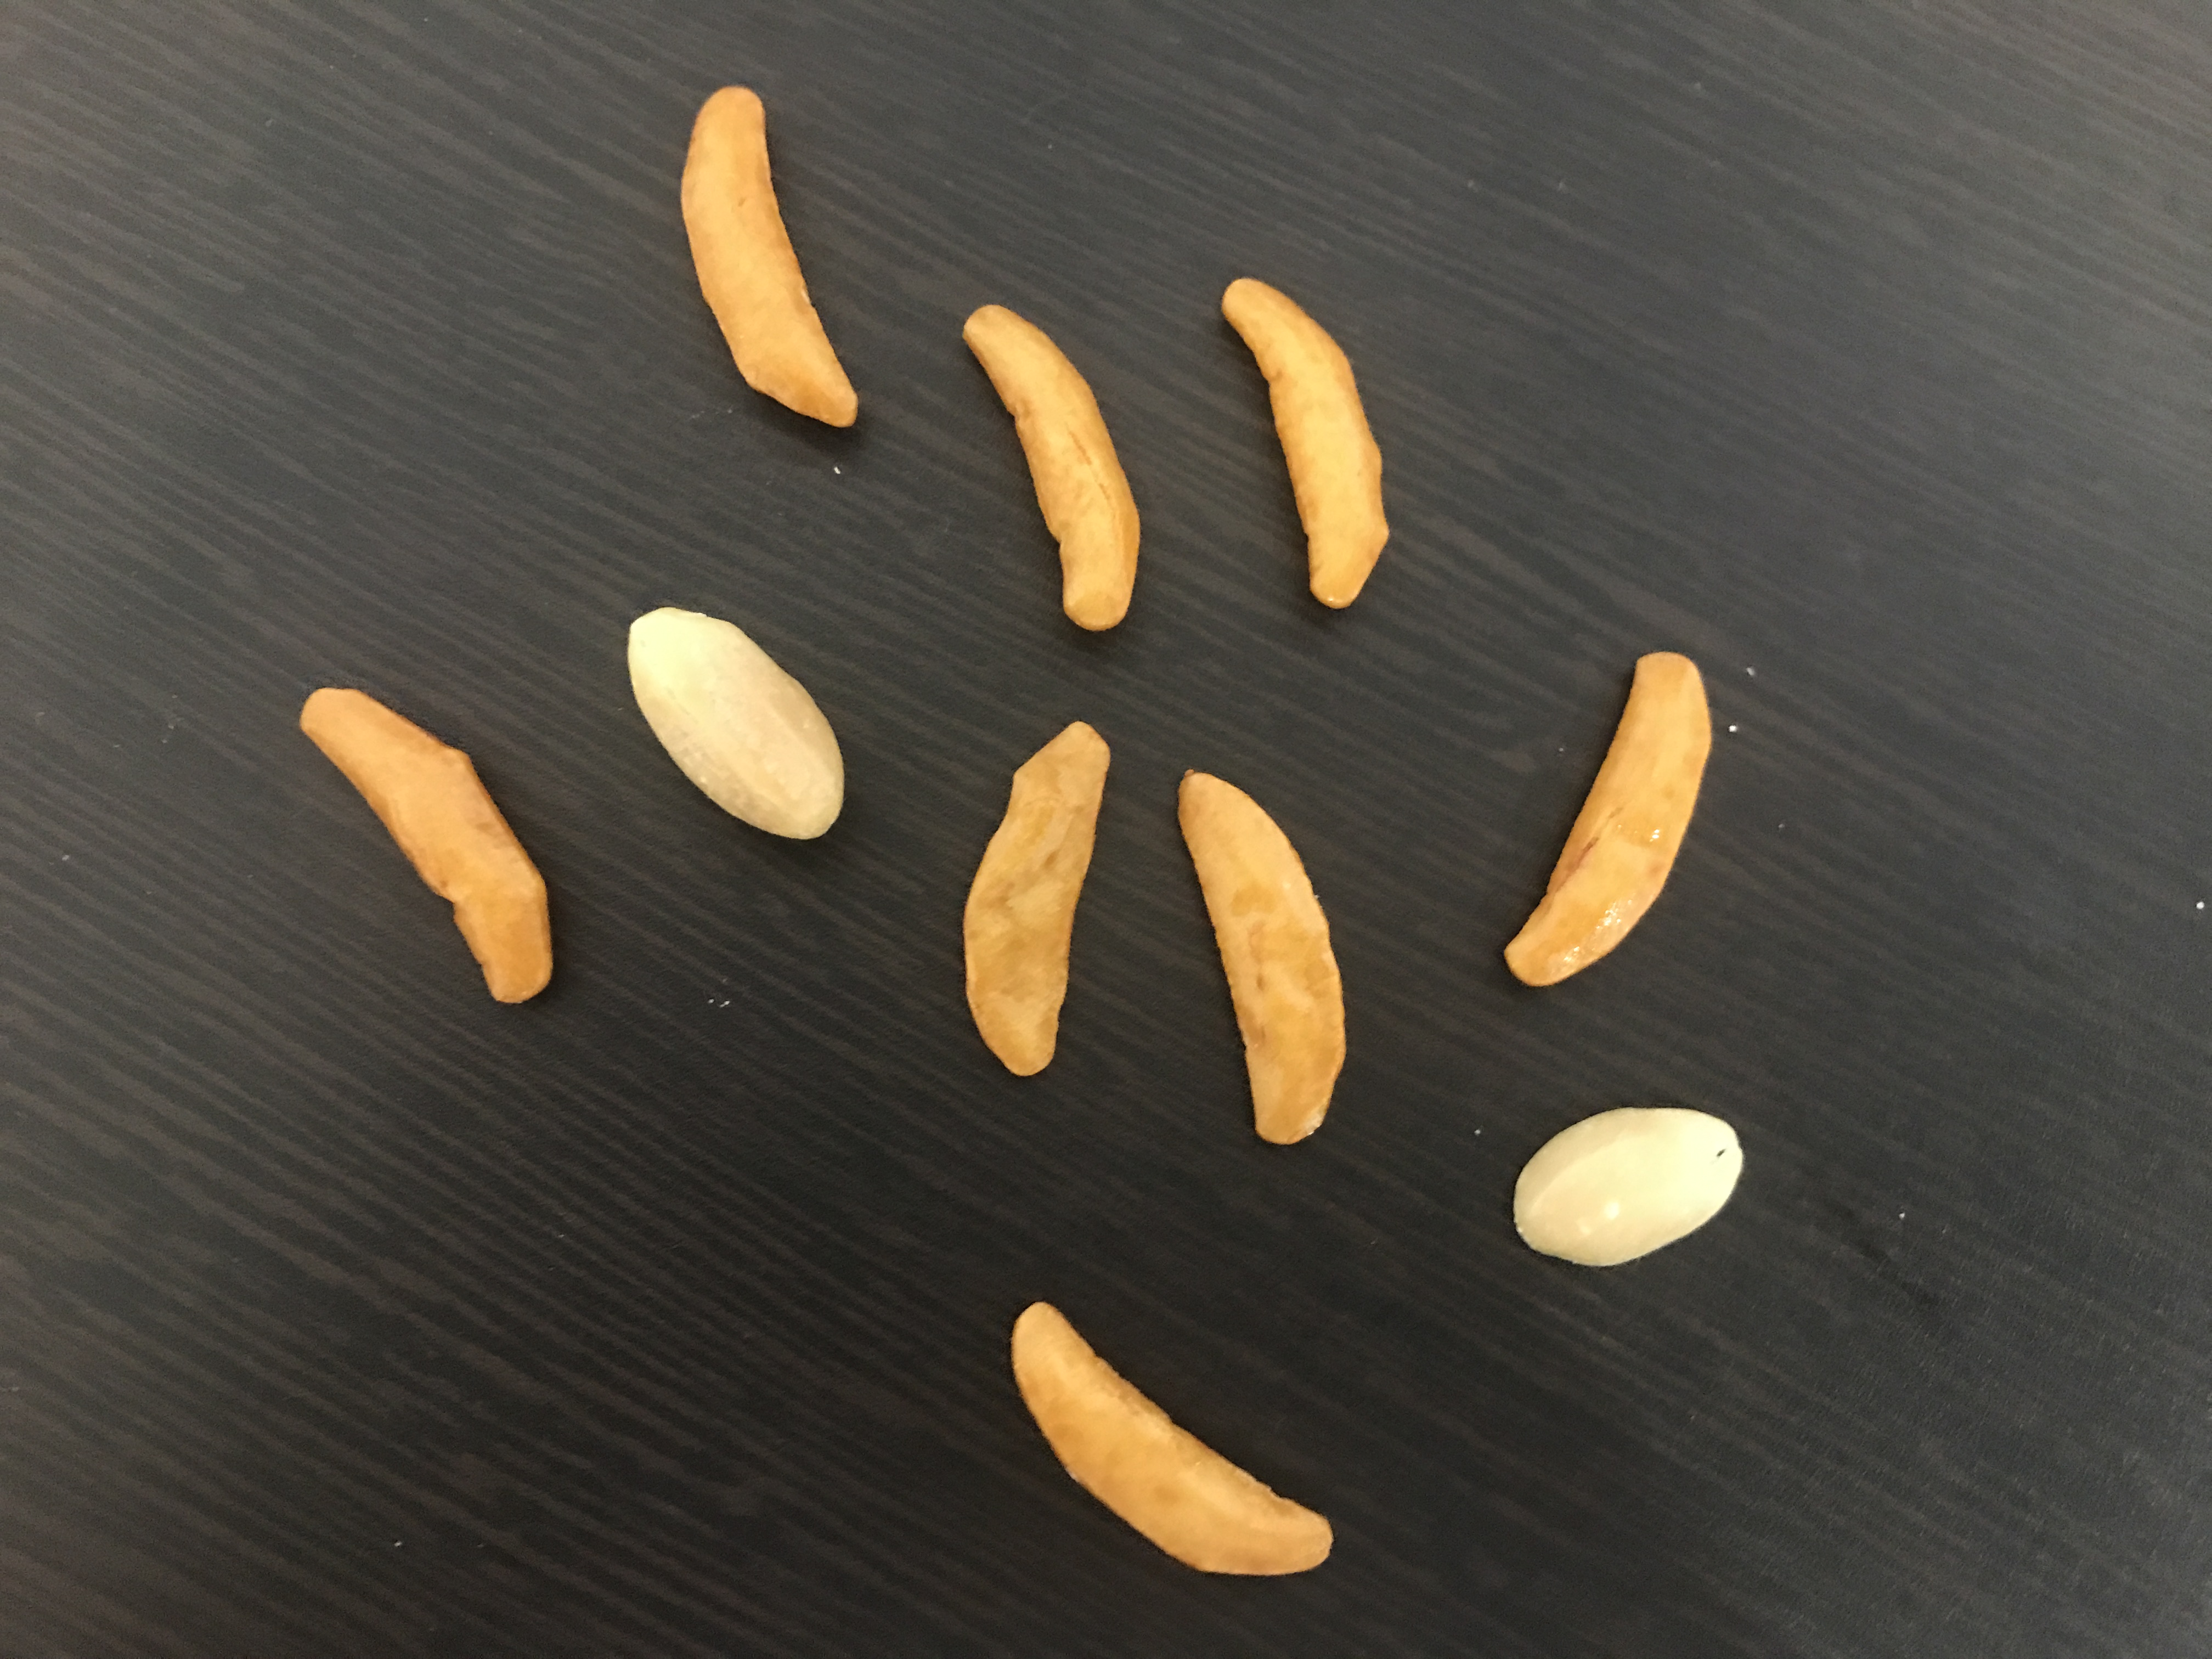peanut: (622, 601, 852, 845), (1507, 1101, 1750, 1269)
